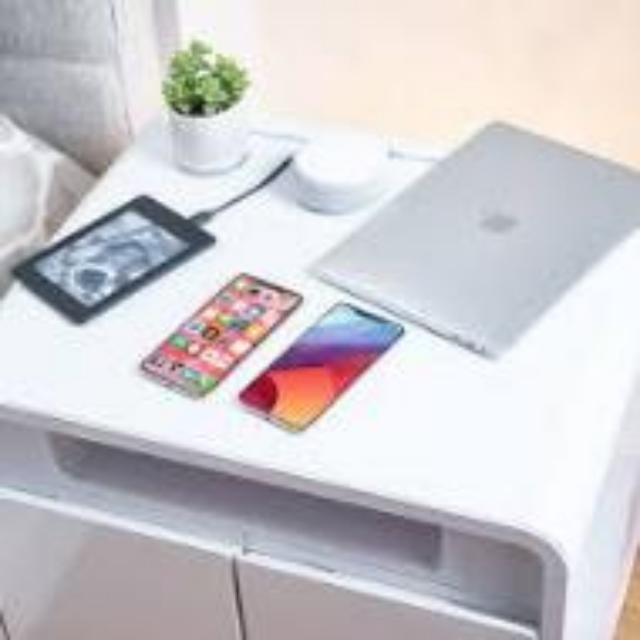Phone: (8, 175, 254, 323), (243, 304, 411, 438), (149, 276, 303, 404)
